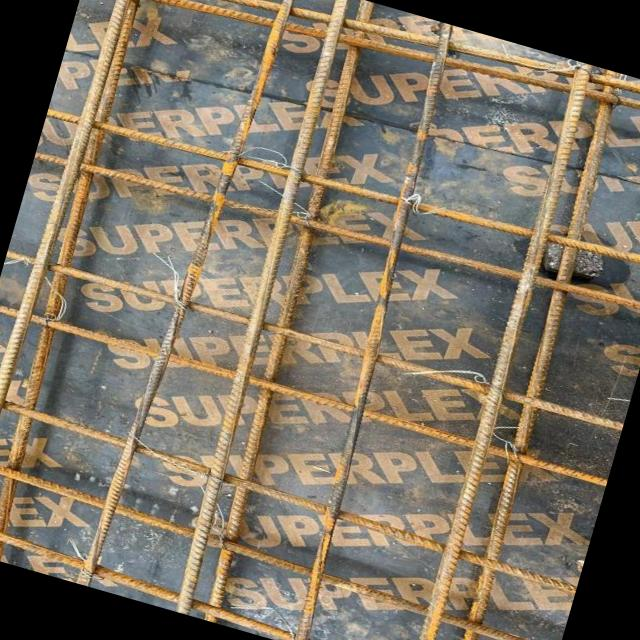ribbed bar: (262, 21, 480, 640), (73, 0, 299, 595), (183, 0, 397, 623), (156, 0, 366, 614), (33, 128, 640, 336), (45, 85, 640, 292), (0, 387, 582, 595), (429, 69, 636, 640), (5, 245, 622, 435), (399, 60, 599, 640), (0, 302, 606, 489), (0, 450, 564, 640), (0, 0, 176, 560), (82, 0, 640, 162), (0, 0, 148, 552), (87, 0, 640, 147), (0, 506, 517, 640)
